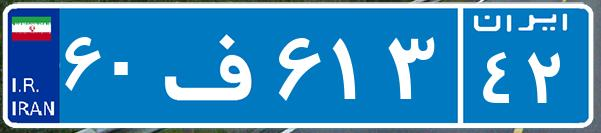0: (110, 28, 158, 105)
1: (330, 28, 385, 110)
2: (525, 38, 570, 115)
3: (385, 28, 445, 110)
4: (475, 38, 525, 113)
6: (273, 28, 330, 110), (57, 26, 110, 107)
ف: (158, 15, 273, 115)
